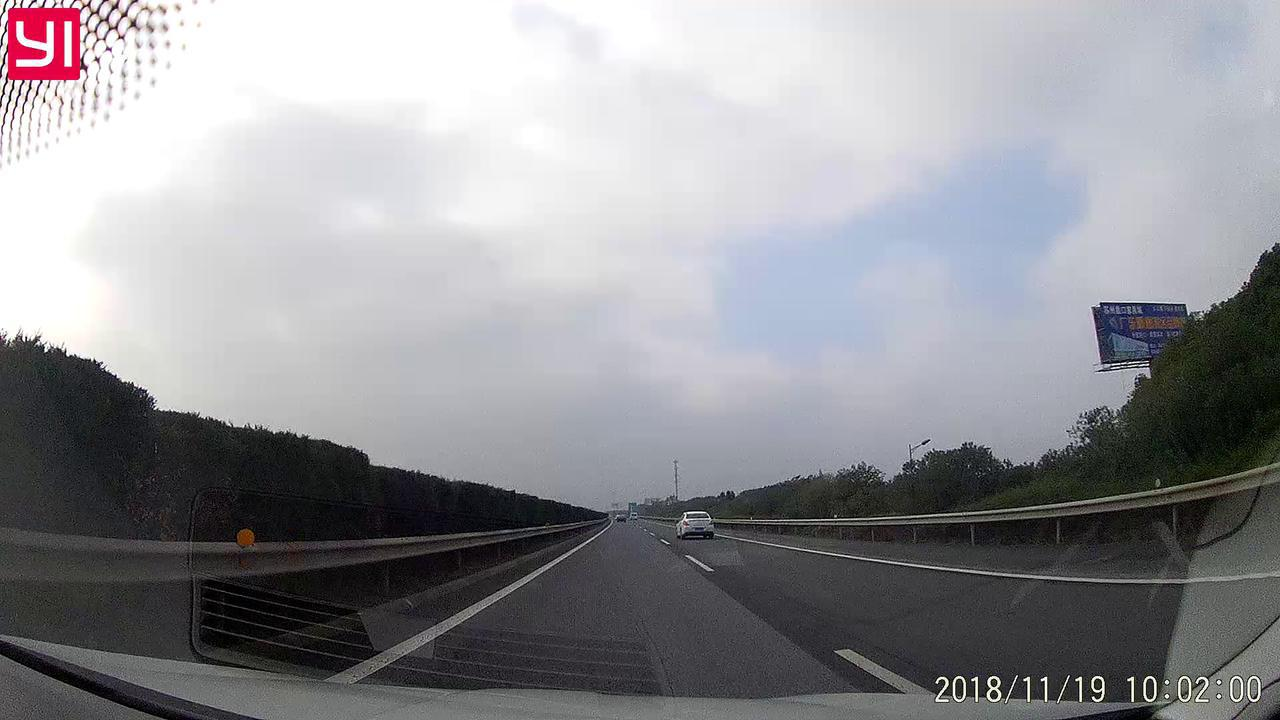car: (674, 511, 714, 539)
